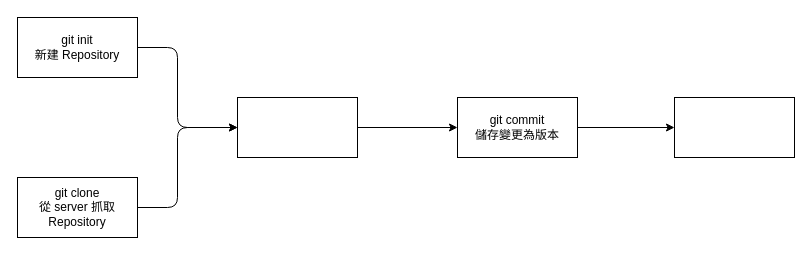
Some shapes in this 812 by 255 pixel diagram are drawn without their labels. The centre of each missing label's shape, as x and y in pixels:
git add 文件編輯: [297,127]
git push 推送本地版本至遠端: [734,127]
